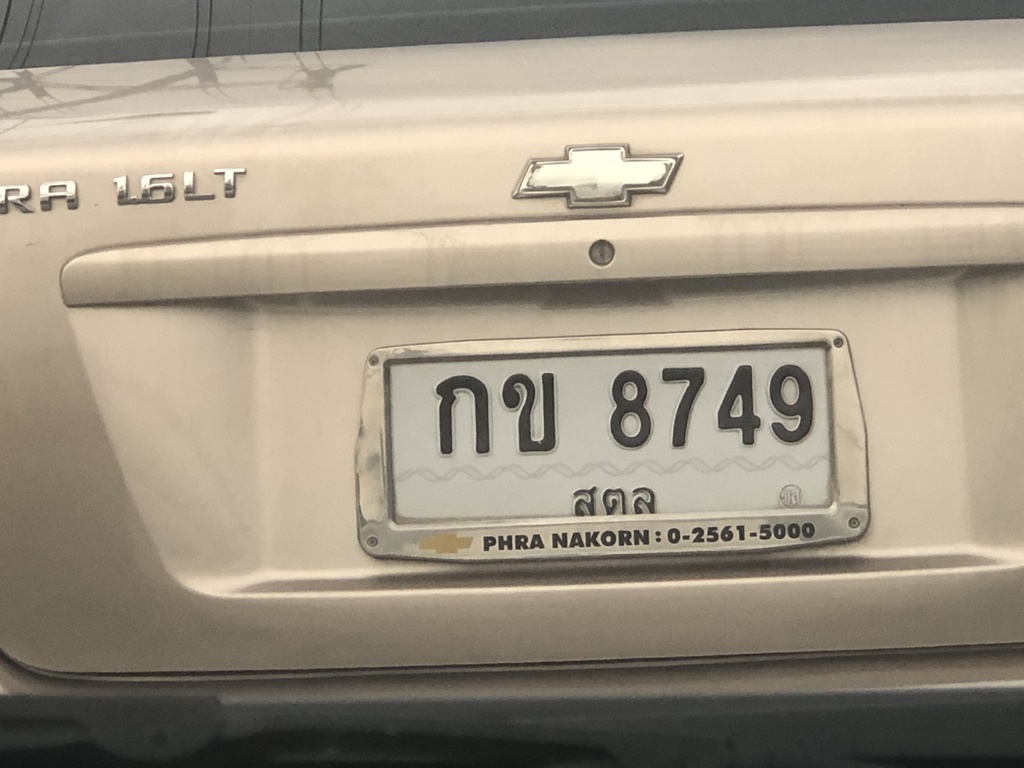plate: (361, 347, 847, 534)
